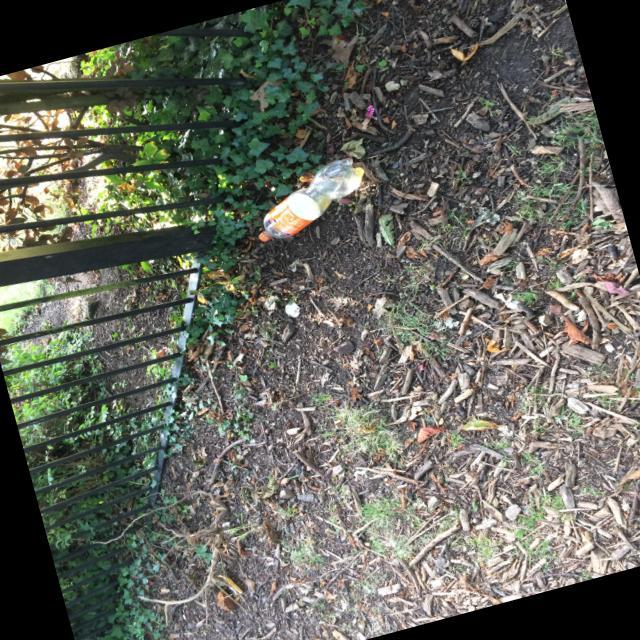good: (246, 145, 374, 253)
